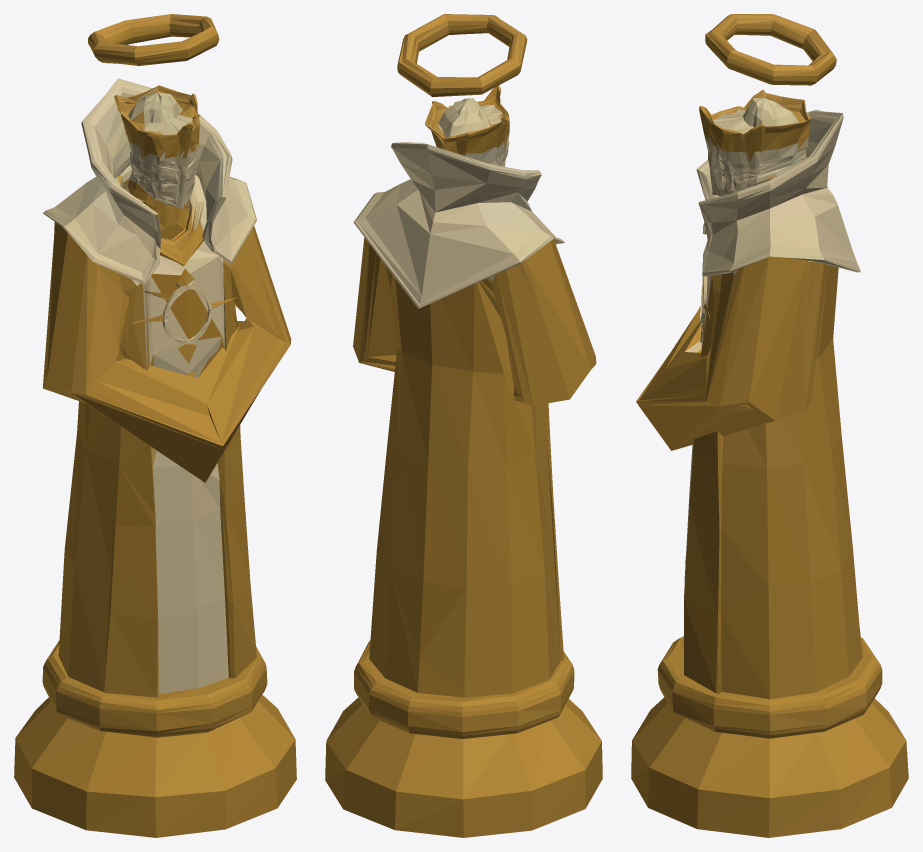
File: clerc.glb
3 renders of one model, left to right at view 1: azimuth 30°, elevation 25°; view 2: azimuth 150°, elevation 25°; view 3: azimuth 270°, elevation 25°, orthographic.
Visible parts, largest first — view 1: mesh_node; view 2: mesh_node; view 3: mesh_node.
Boxes of the visible parts, left/top/right/bottom form: mesh_node: left=14, top=14, right=296, bottom=837; mesh_node: left=325, top=14, right=602, bottom=837; mesh_node: left=631, top=14, right=908, bottom=837.
Bounding box in the file's own units: 0.3418 × 1 × 0.3369.
